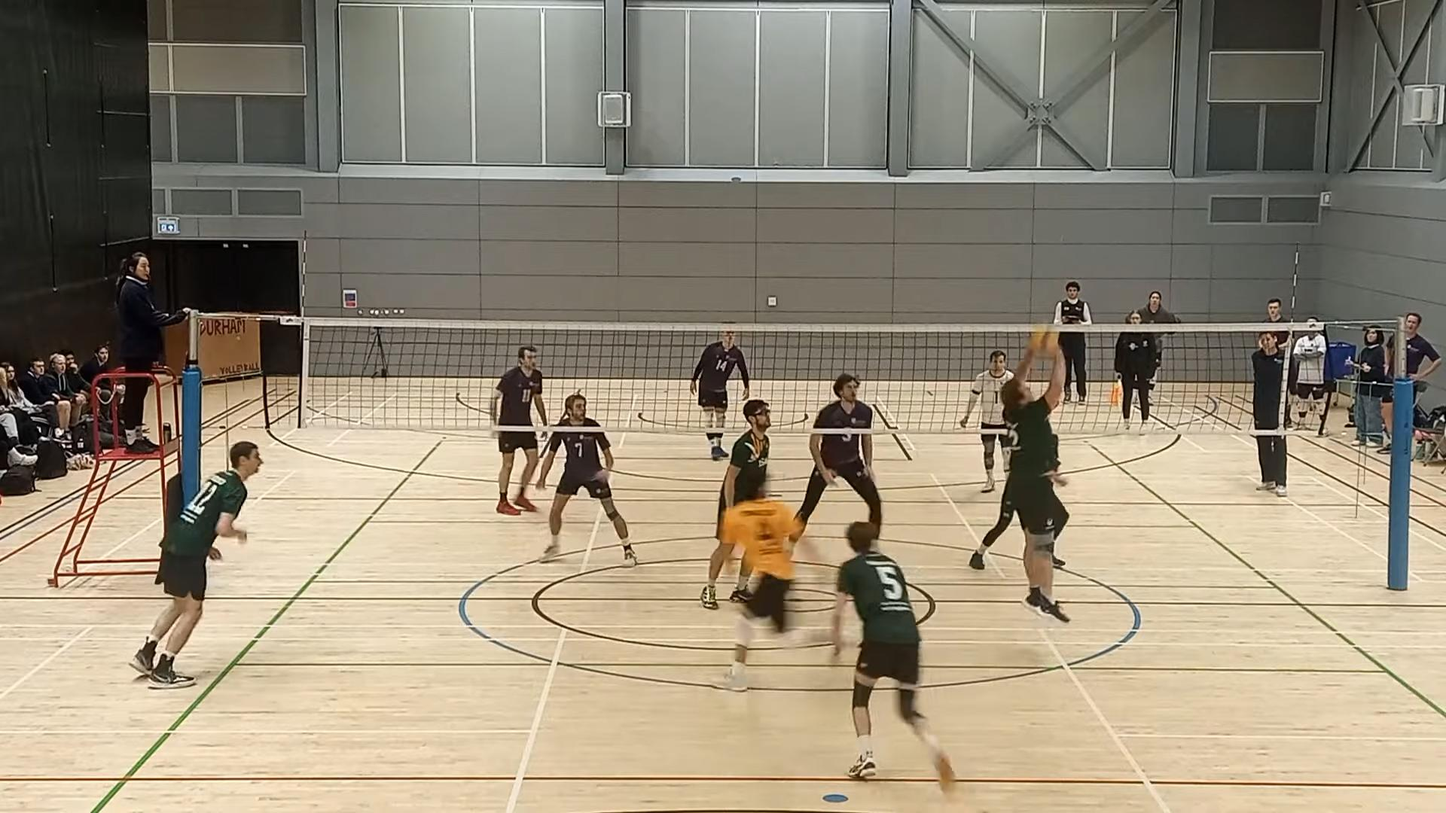alzata: (1004, 325, 1072, 621)
